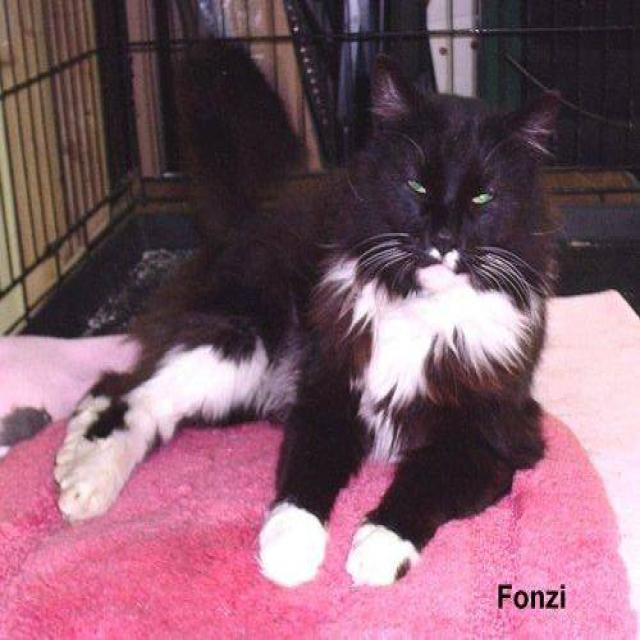cat: (4, 36, 567, 588)
